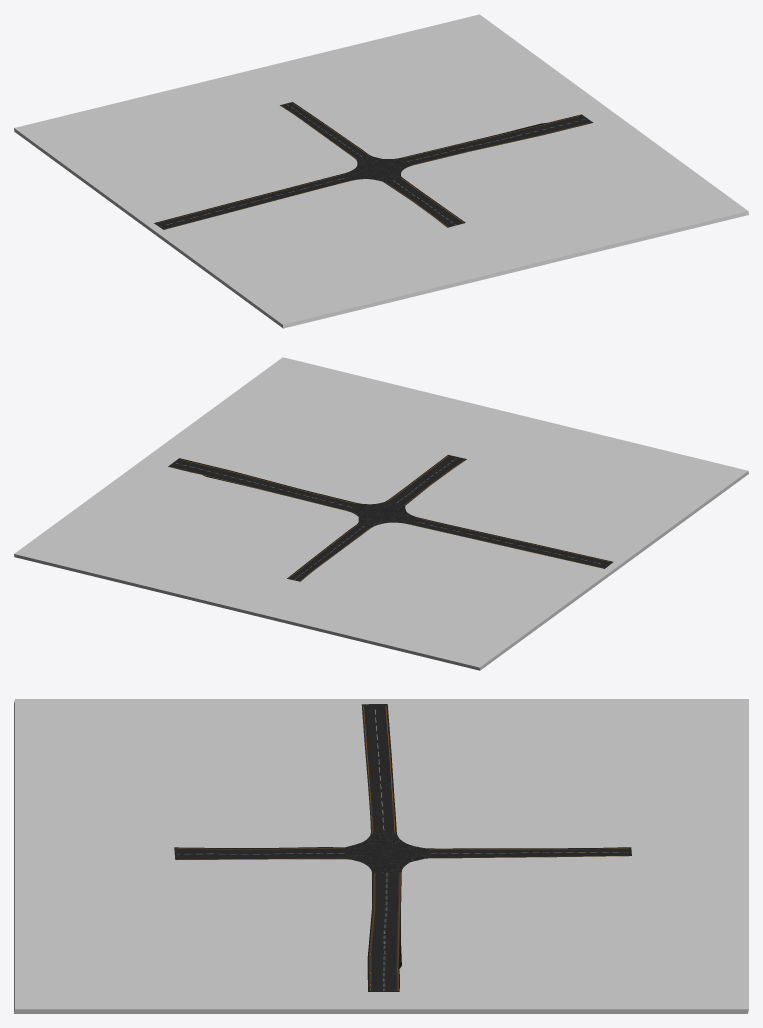
File: MainIntersectionIthaca.fbx
3 renders of one model, top to bottom at view 1: azimuth 30°, elevation 25°; view 2: azimuth 150°, elevation 25°; view 3: azimuth 270°, elevation 25°, orthographic. The views are drawn at different scales.
Parts seen in each view (by area): view 1: Plane; view 2: Plane; view 3: Plane.
Part boxes in pixels (x1=…): Plane: x1=14, y1=14, x2=748, y2=328; Plane: x1=14, y1=357, x2=748, y2=670; Plane: x1=14, y1=699, x2=748, y2=1013.
Size of the model in its own units: 24570 by 177 by 24607.
